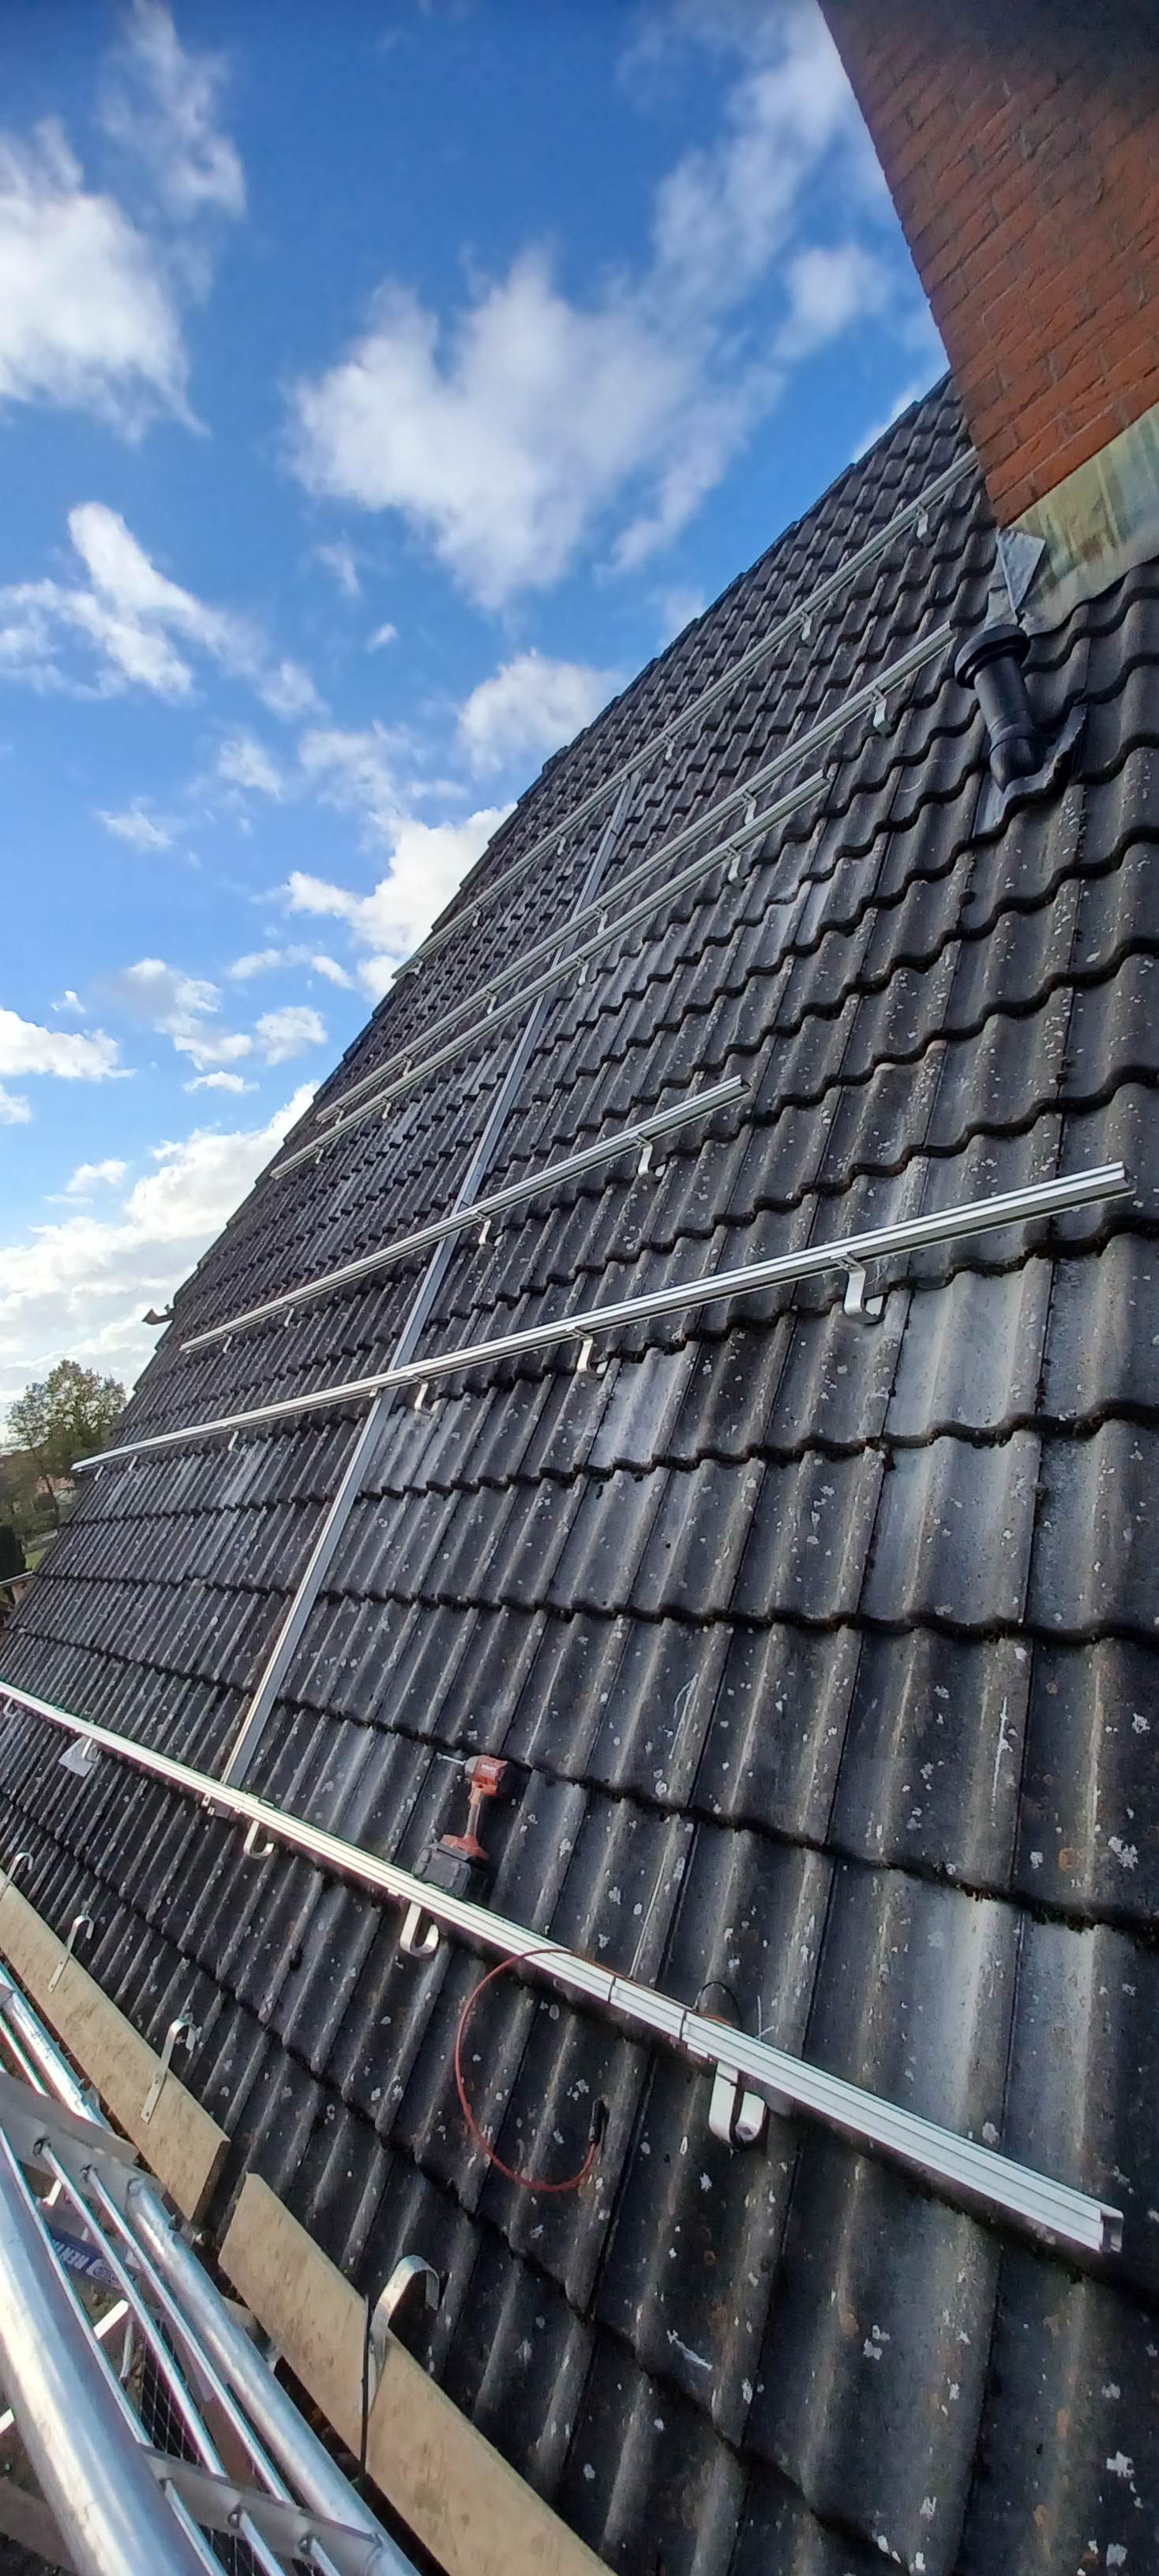hook: (687, 2044, 768, 2152), (830, 1252, 884, 1324), (388, 1889, 439, 1958), (566, 1326, 608, 1378), (233, 1809, 275, 1858), (628, 1132, 666, 1183), (863, 685, 896, 736), (408, 1372, 441, 1414), (472, 1209, 505, 1250), (722, 844, 751, 887), (909, 501, 937, 545), (76, 1730, 102, 1763), (796, 609, 817, 647), (572, 955, 593, 991), (224, 1423, 248, 1454), (738, 789, 758, 825), (279, 1301, 304, 1327), (659, 733, 677, 766), (590, 905, 608, 935), (482, 989, 500, 1015), (552, 833, 567, 858), (220, 1329, 233, 1354), (125, 1449, 138, 1474), (399, 1053, 413, 1076), (94, 1460, 107, 1483), (413, 955, 424, 979), (380, 1094, 391, 1119), (470, 905, 482, 930), (314, 1143, 327, 1165), (3, 1695, 16, 1717), (334, 1104, 345, 1124)
